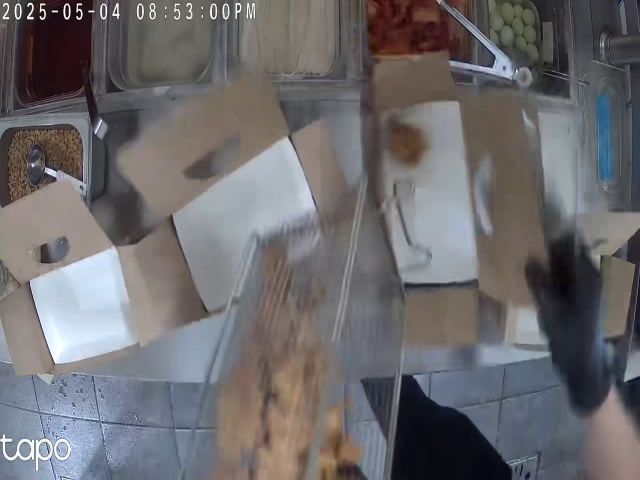delivery box: (365, 51, 550, 360), (102, 122, 346, 284), (0, 169, 125, 371)
hand: (544, 224, 589, 417)
